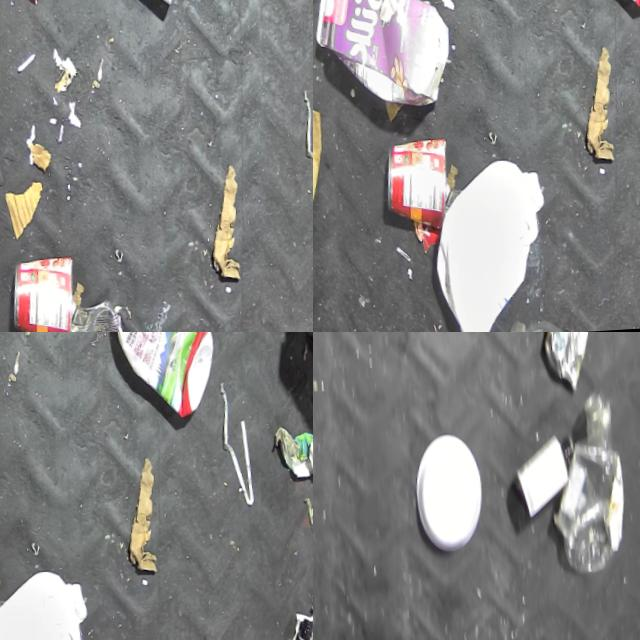can: (371, 133, 451, 236), (0, 253, 71, 332), (530, 332, 592, 400), (54, 297, 120, 332)
milk_jug: (410, 145, 559, 332), (0, 567, 90, 640)
non_white_jug: (87, 332, 217, 428)
plastic_bottle: (531, 390, 628, 588)
